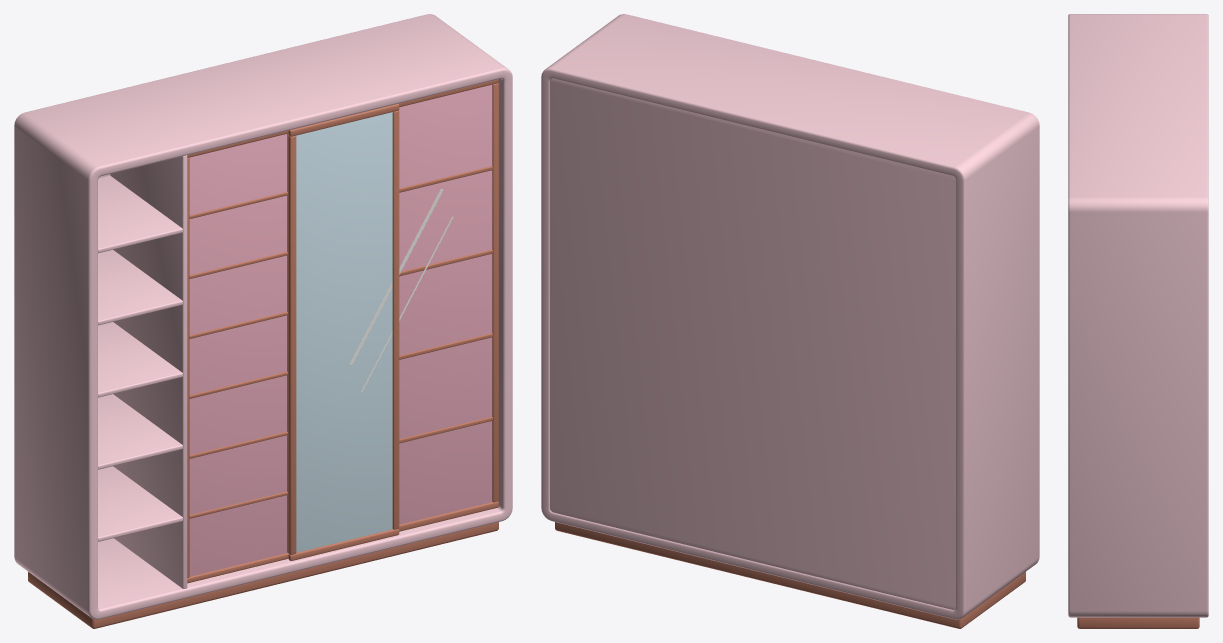
Rendered from guarda_roupa_correr_espelho_rosa.glb.
3 renders of one model, left to right at view 1: azimuth 30°, elevation 25°; view 2: azimuth 150°, elevation 25°; view 3: azimuth 270°, elevation 25°, orthographic. The views are drawn at different scales.
Visible parts, largest first — view 1: guarda_roupa_correr_espelho_rosa, correr_3, correr_1, correr_2; view 2: guarda_roupa_correr_espelho_rosa; view 3: guarda_roupa_correr_espelho_rosa.
Boxes of the visible parts, x1,y1,x2,y2 form: guarda_roupa_correr_espelho_rosa: (14, 14, 512, 628); correr_3: (288, 104, 453, 560); correr_1: (187, 130, 288, 583); correr_2: (398, 79, 498, 531); guarda_roupa_correr_espelho_rosa: (541, 14, 1039, 628); guarda_roupa_correr_espelho_rosa: (1068, 14, 1208, 628).
Bounding box in the file's own units: 2 × 2.1 × 0.62.
2 materials, 1 textured.
